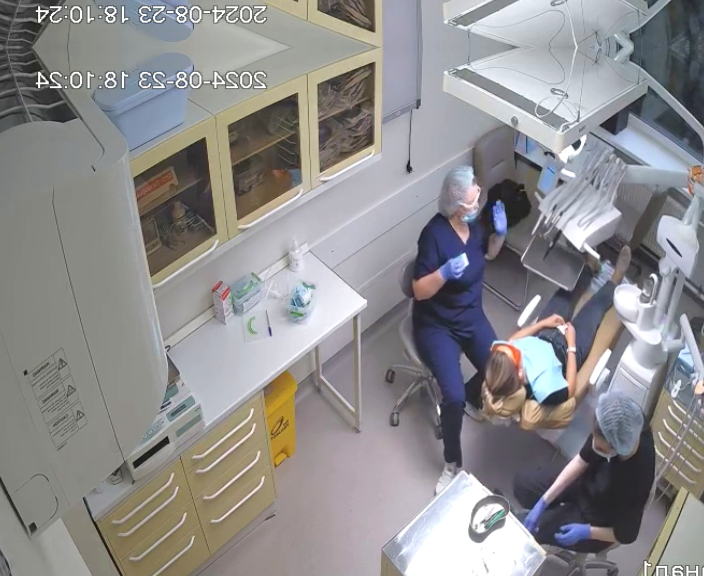Patient: (474, 252, 646, 430)
